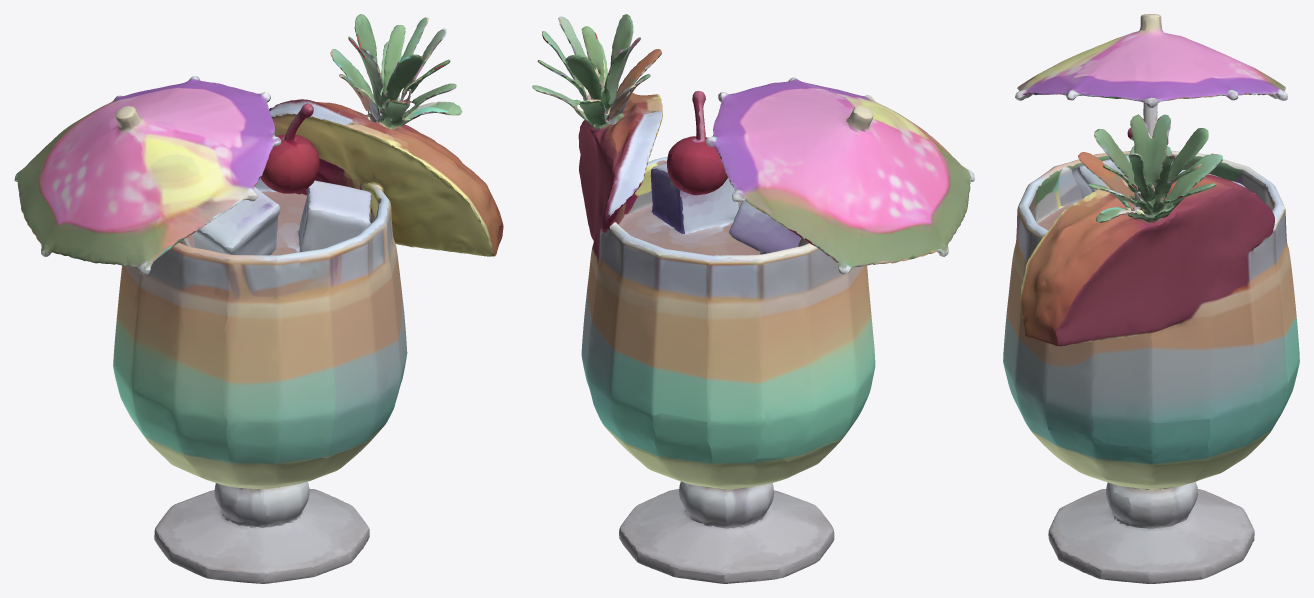
Rendered from cocktail_v2.glb.
The picture shows the model from 3 angles, left to right: view 1: azimuth 30°, elevation 25°; view 2: azimuth 150°, elevation 25°; view 3: azimuth 270°, elevation 25°; orthographic projection.
Parts seen in each view (by area): view 1: tmpa93j85v6.ply; view 2: tmpa93j85v6.ply; view 3: tmpa93j85v6.ply.
Part boxes in pixels (x1,y1,x2,y2): tmpa93j85v6.ply: (14,14,503,583); tmpa93j85v6.ply: (532,14,974,583); tmpa93j85v6.ply: (1003,14,1299,583).
Size of the model in its own units: 0.9013 by 0.9867 by 0.5627.
1 material, 1 textured.
